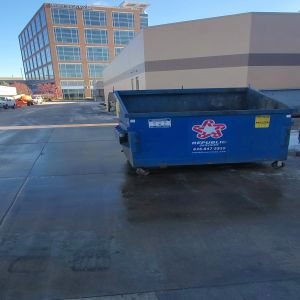Dumpster: (114, 87, 295, 175)
